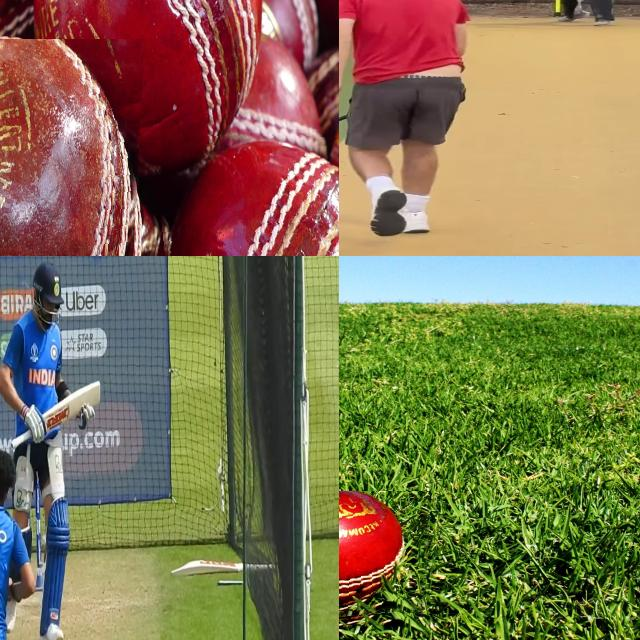Cricket ball: (0, 39, 147, 256), (152, 130, 339, 256), (339, 491, 433, 631)
